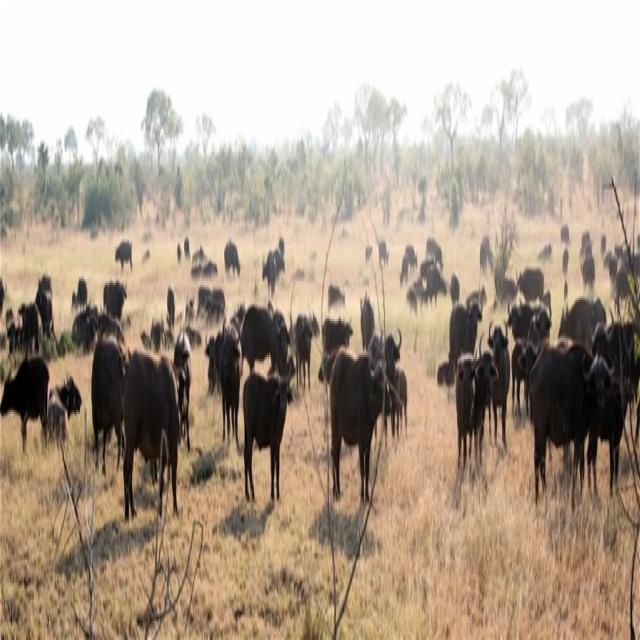Cattle: (0, 224, 640, 524)
